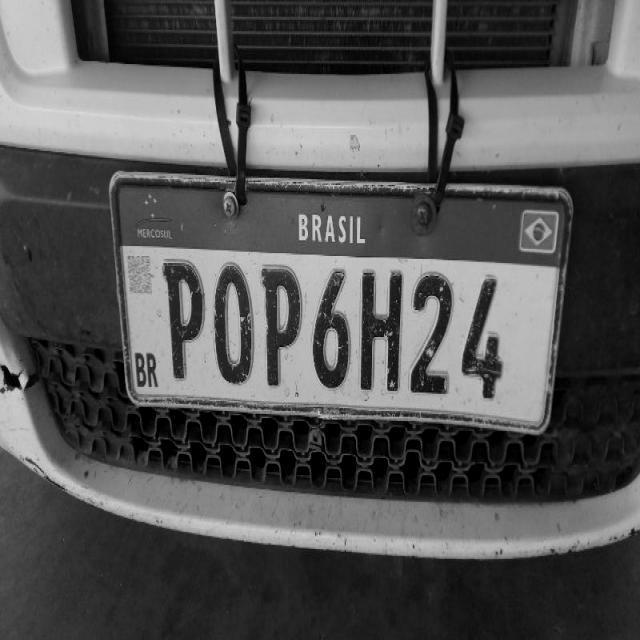placa_mercosul: (110, 175, 568, 436)
